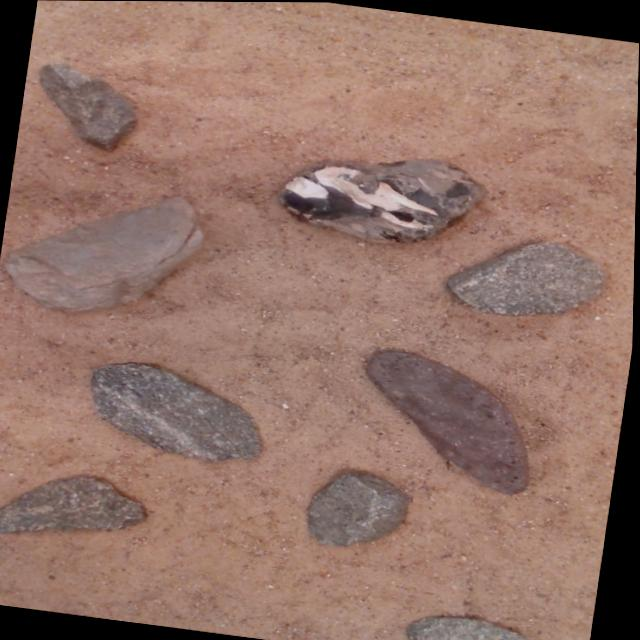rock: (369, 348, 532, 492), (8, 196, 204, 309), (283, 157, 487, 240), (93, 361, 263, 459), (450, 239, 606, 313), (40, 62, 138, 149), (0, 475, 149, 531), (311, 471, 414, 544), (411, 614, 528, 640)
